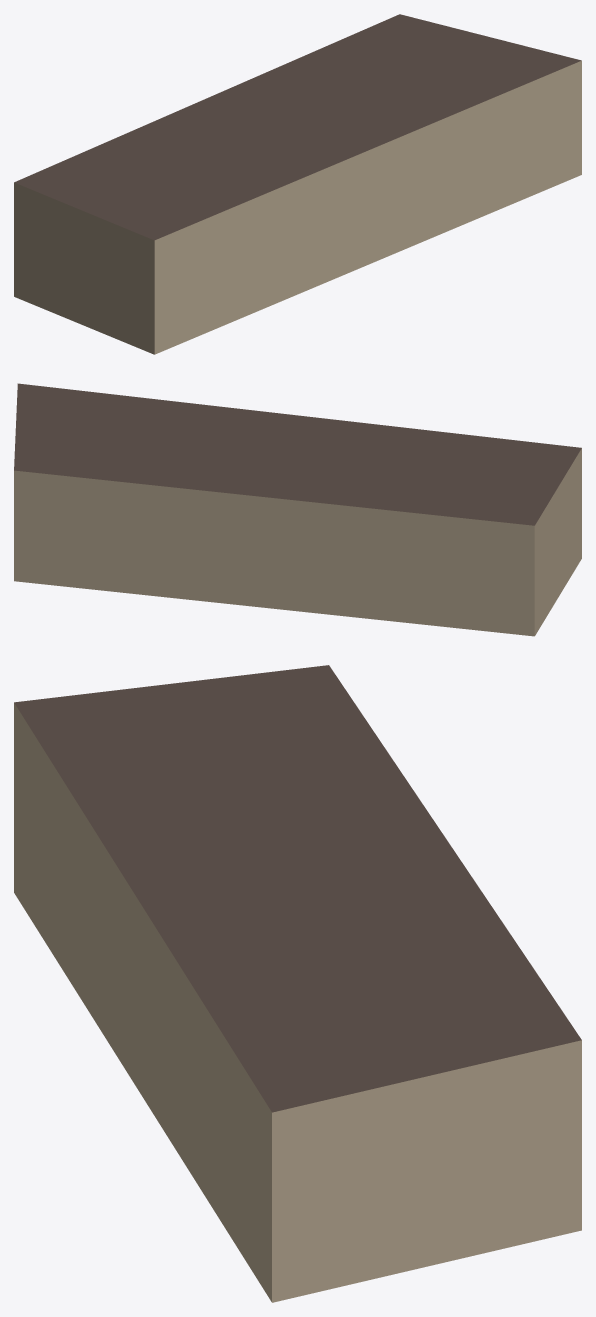
3 renders of one model, top to bottom at view 1: azimuth 30°, elevation 25°; view 2: azimuth 150°, elevation 25°; view 3: azimuth 270°, elevation 25°, orthographic. The views are drawn at different scales.
Parts seen in each view (by area): view 1: HP-w756799579; view 2: HP-w756799579; view 3: HP-w756799579.
Part boxes in pixels (<box>): HP-w756799579: <box>14,14,581,354</box>; HP-w756799579: <box>14,383,581,636</box>; HP-w756799579: <box>14,665,581,1302</box>.
Bounding box in the file's own units: 45.39 × 9 × 24.35.
